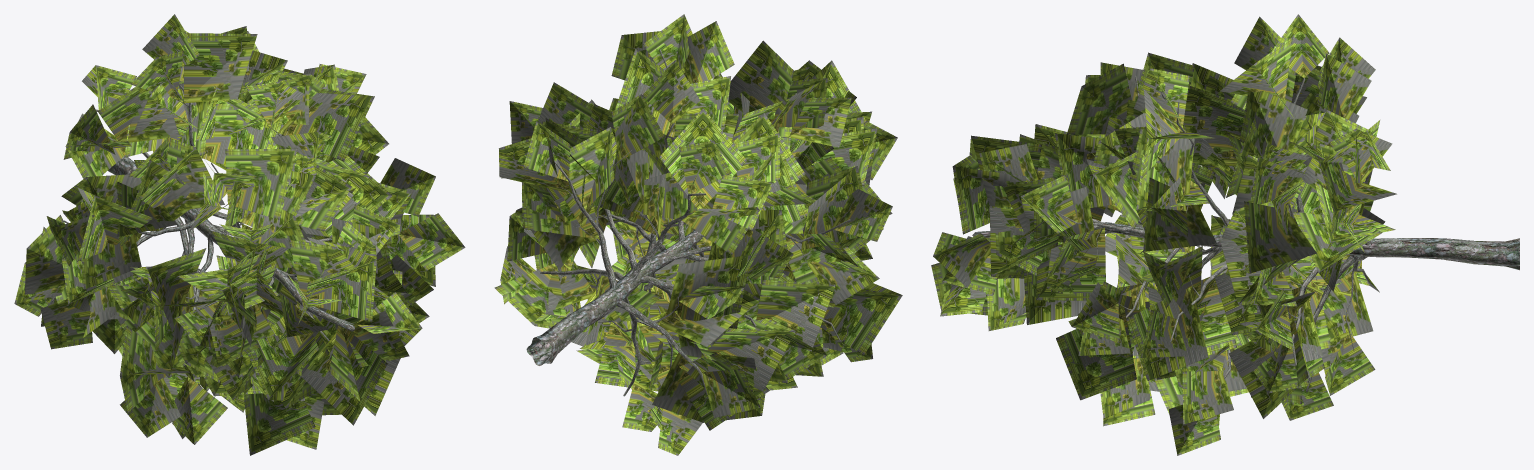
Rendered from tree.gltf.
3 renders of one model, left to right at view 1: azimuth 30°, elevation 25°; view 2: azimuth 150°, elevation 25°; view 3: azimuth 270°, elevation 25°, orthographic. The views are drawn at different scales.
Parts seen in each view (by area): view 1: tree.002, tree.003; view 2: tree.002, tree.003; view 3: tree.002, tree.003.
Boxes of the visible parts, x1=… form: tree.002: x1=14, y1=14, x2=465, y2=455; tree.003: x1=49, y1=52, x2=354, y2=376; tree.002: x1=494, y1=14, x2=902, y2=455; tree.003: x1=526, y1=49, x2=850, y2=413; tree.002: x1=931, y1=14, x2=1396, y2=455; tree.003: x1=972, y1=76, x2=1519, y2=392.
Bounding box in the file's own units: 1.5 × 1.42 × 1.93.
2 materials, 2 textured.
